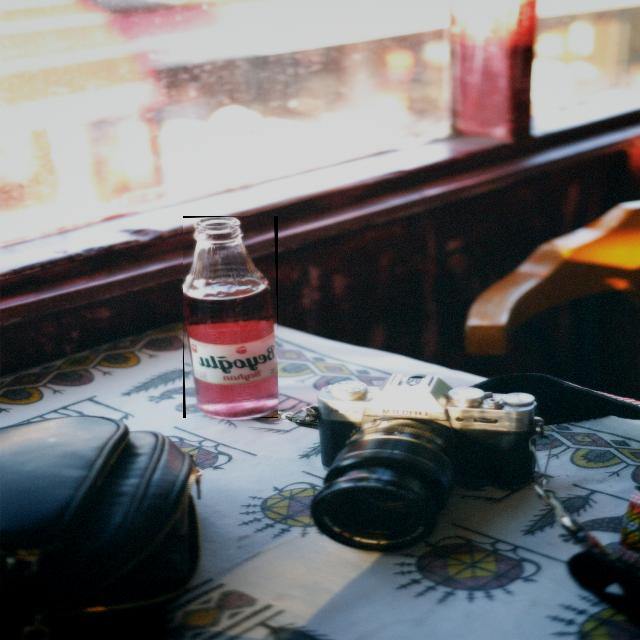Bottle: (182, 216, 277, 418)
